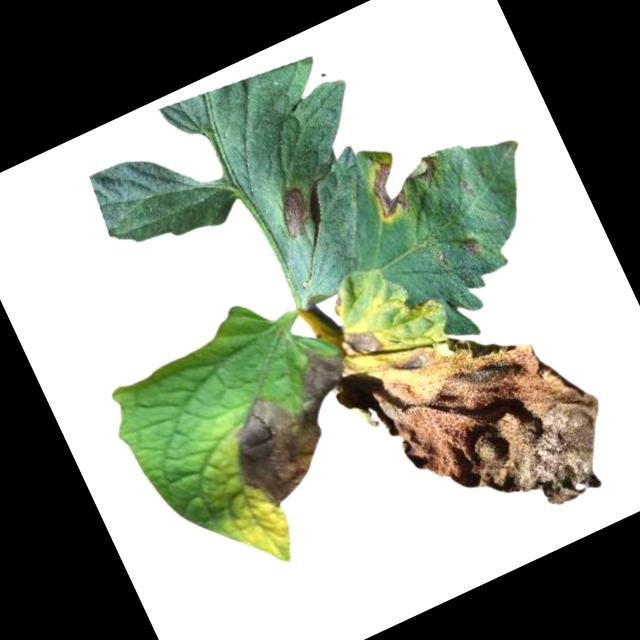Early_blight: (362, 288, 631, 559), (204, 343, 387, 516), (358, 139, 452, 226), (269, 185, 317, 240), (338, 319, 386, 363), (455, 230, 483, 258)
